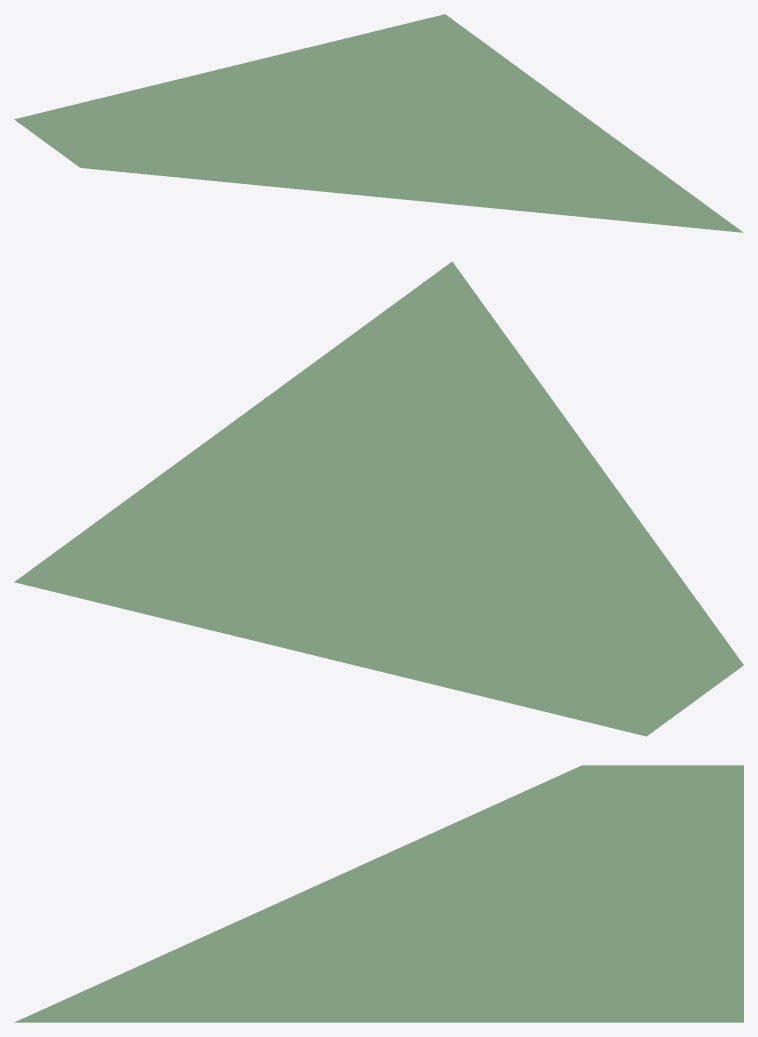
File: ROPE_STORE_SB.glb
3 views of the same model, one above another, from view 1: azimuth 30°, elevation 25°; view 2: azimuth 150°, elevation 25°; view 3: azimuth 270°, elevation 25° (orthographic). The views are drawn at different scales.
Visible parts, largest first — view 1: PL_HG59BracketxAPTS_002001-10_NVA_1993; view 2: PL_HG59BracketxAPTS_002001-10_NVA_1993; view 3: PL_HG59BracketxAPTS_002001-10_NVA_1993.
Boxes of the visible parts, left/top/right/bottom form: PL_HG59BracketxAPTS_002001-10_NVA_1993: left=14, top=14, right=743, bottom=232; PL_HG59BracketxAPTS_002001-10_NVA_1993: left=14, top=261, right=743, bottom=736; PL_HG59BracketxAPTS_002001-10_NVA_1993: left=14, top=765, right=743, bottom=1022.
Bounding box in the file's own units: 0.75 × 0 × 0.9.
